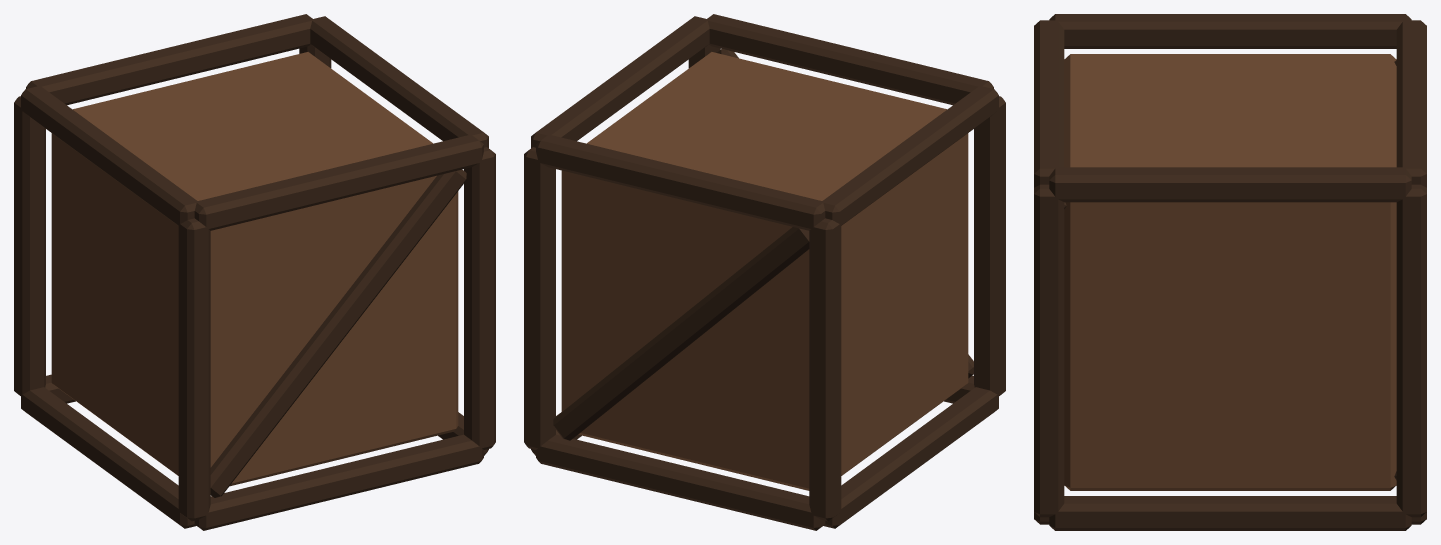
File: crate.glb
3 views of the same model, side by side, from view 1: azimuth 30°, elevation 25°; view 2: azimuth 150°, elevation 25°; view 3: azimuth 270°, elevation 25° (orthographic). The views are drawn at different scales.
Visible parts, largest first — view 1: Crate; view 2: Crate; view 3: Crate.
Part boxes in pixels (x1=…): Crate: x1=14, y1=14, x2=495, y2=530; Crate: x1=524, y1=14, x2=1005, y2=530; Crate: x1=1034, y1=14, x2=1426, y2=530.
Size of the model in its own units: 0.78 by 0.78 by 0.78.
